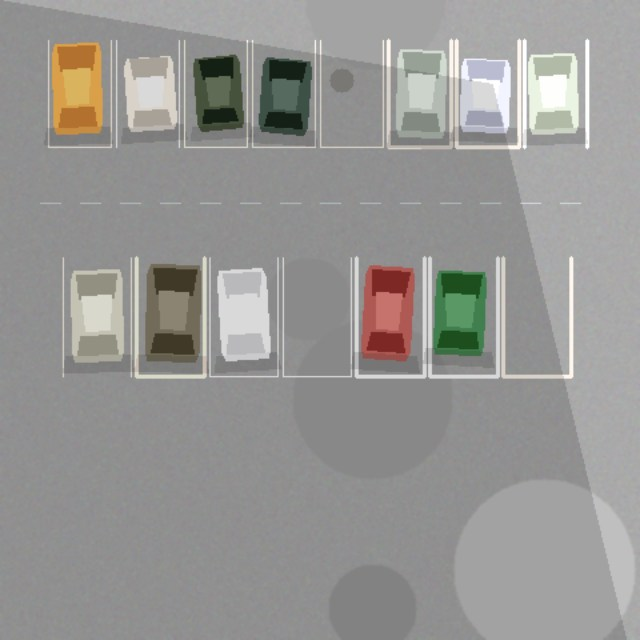space-empty: (283, 257, 351, 376), (503, 257, 571, 376), (320, 40, 383, 147)
space-occupied: (63, 257, 131, 376), (136, 257, 204, 376), (209, 257, 277, 376), (356, 257, 424, 376), (429, 257, 497, 376), (48, 40, 111, 147), (116, 40, 179, 147), (184, 40, 247, 147), (252, 40, 315, 147), (388, 40, 451, 147), (456, 40, 519, 147), (524, 40, 587, 147)
